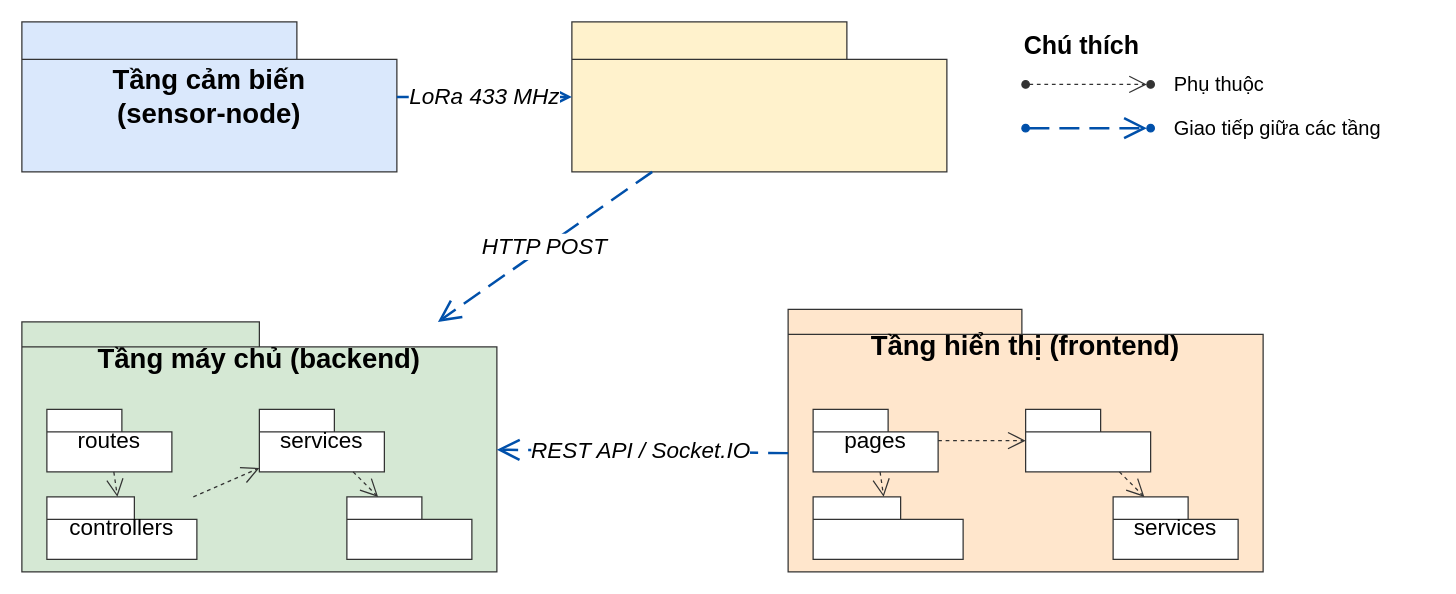
Image size: 1456x594. Some labels were removed from this diagram. Here are the shapes that lost their labels. From the top down, the box of each, then its label:
(571, 21, 947, 172): Tầng trung chuyển (gateway)
(1024, 408, 1151, 472): hooks
(346, 496, 472, 559): config
(812, 496, 963, 559): components
